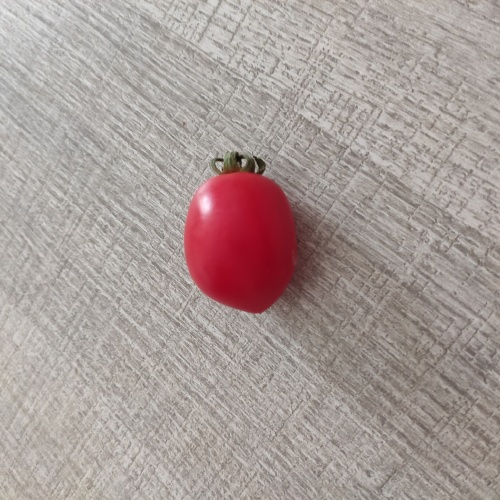pomodoro: (183, 150, 299, 320)
